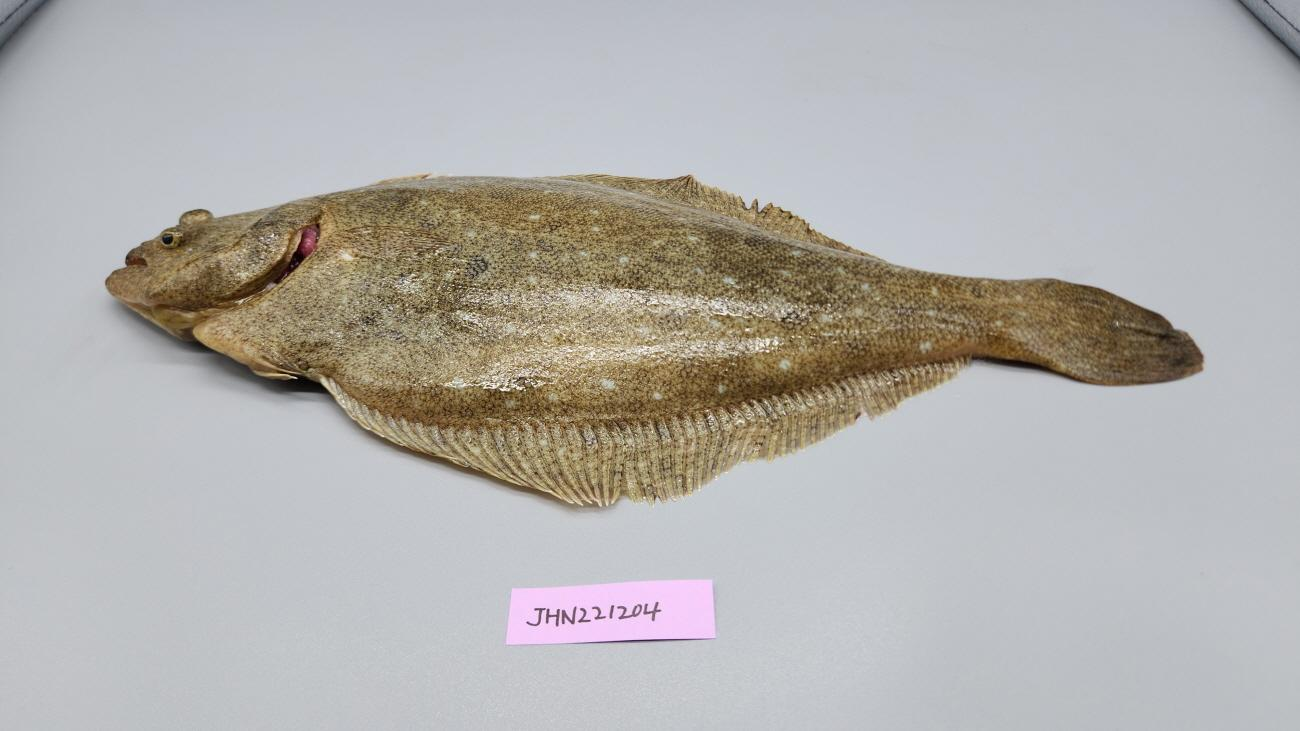POOUN: (105, 169, 1205, 510)
